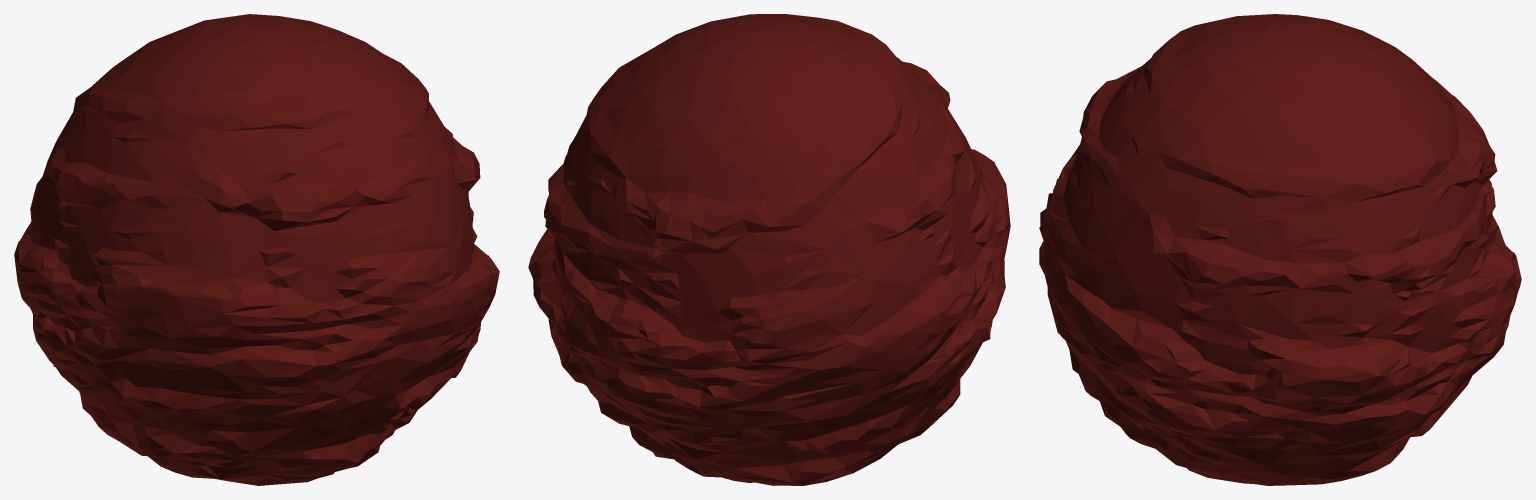
Rendered from Planet 1.FBX.
The picture shows the model from 3 angles, left to right: view 1: azimuth 30°, elevation 25°; view 2: azimuth 150°, elevation 25°; view 3: azimuth 270°, elevation 25°; orthographic projection.
Parts seen in each view (by area): view 1: Planet 1; view 2: Planet 1; view 3: Planet 1.
Part boxes in pixels (<box>): Planet 1: <box>14,14,499,485</box>; Planet 1: <box>528,14,1010,485</box>; Planet 1: <box>1039,14,1521,485</box>.
Size of the model in its own units: 224 by 220 by 223.
